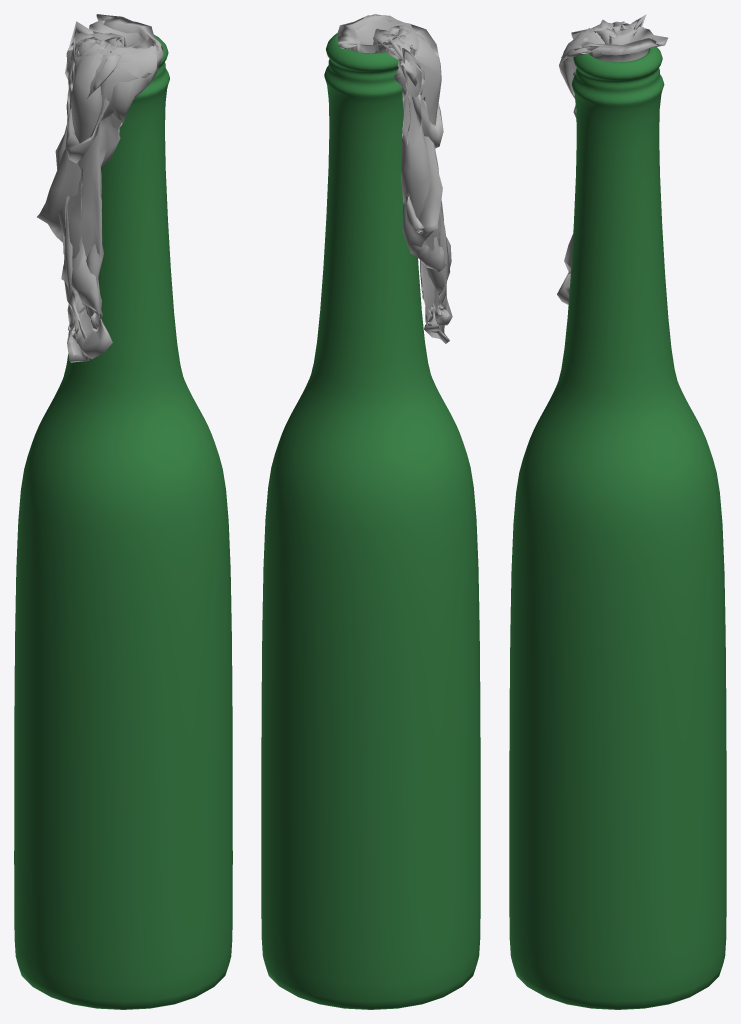
File: Molotov cocktail.fbx
3 renders of one model, left to right at view 1: azimuth 30°, elevation 25°; view 2: azimuth 150°, elevation 25°; view 3: azimuth 270°, elevation 25°, orthographic.
Parts seen in each view (by area): view 1: Цилиндр, Плоскость.001; view 2: Цилиндр, Плоскость.001; view 3: Цилиндр, Плоскость.001.
Boxes of the visible parts, left/top/right/bottom form: Цилиндр: left=14, top=34, right=232, bottom=1009; Плоскость.001: left=37, top=14, right=163, bottom=362; Цилиндр: left=261, top=33, right=480, bottom=1009; Плоскость.001: left=337, top=14, right=452, bottom=343; Цилиндр: left=509, top=47, right=726, bottom=1009; Плоскость.001: left=557, top=14, right=667, bottom=304.
Size of the model in its own units: 99.85 by 477 by 100.
